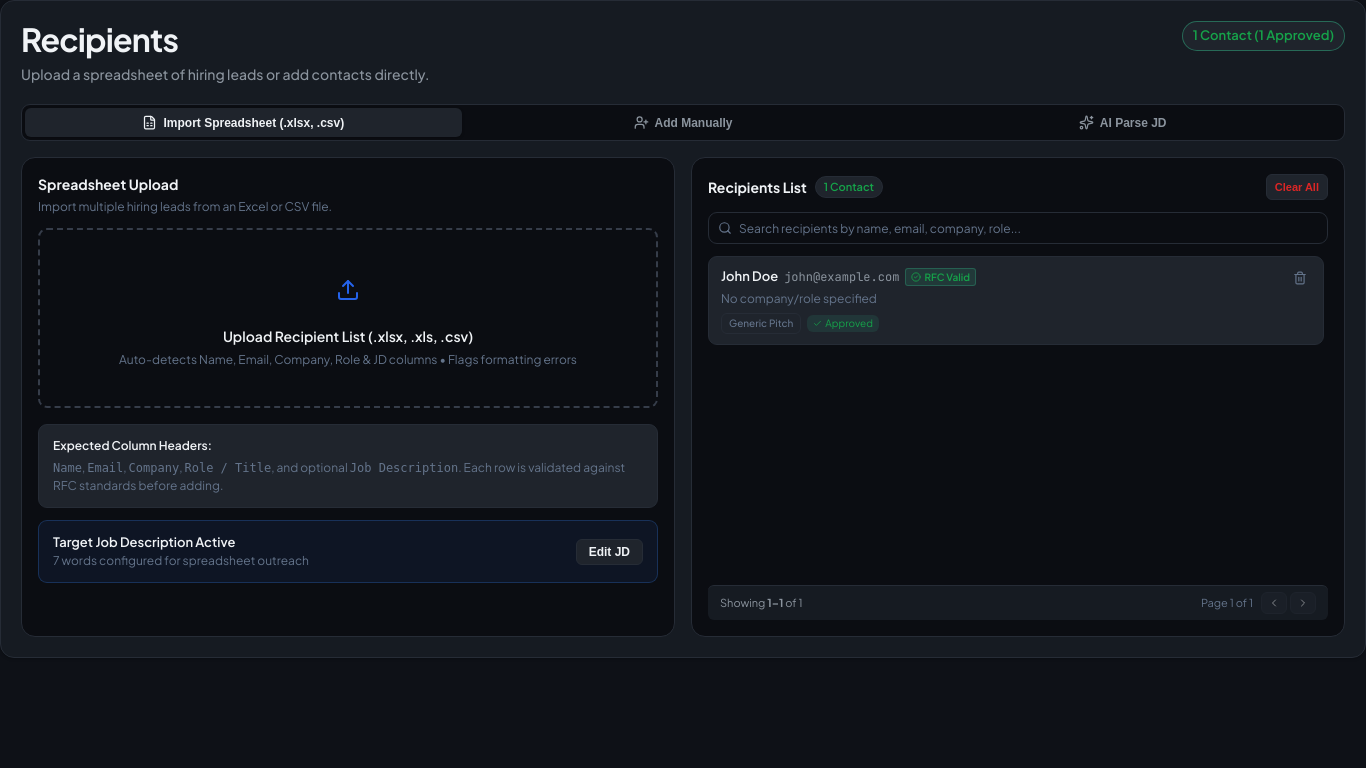
Test case: Excel Upload and Target Role Workflow › RecipientManager spreadsheet JD integration › renders JD configuration banner in spreadsheet tab when spreadsheet recipients exist
Expected: the text "Target Job Description Active" is shown, [53,534,235,550]
Note: Click Edit JD to open modal
Step 1. Click the button "Edit JD" → (609, 552), box [576,539,643,565]
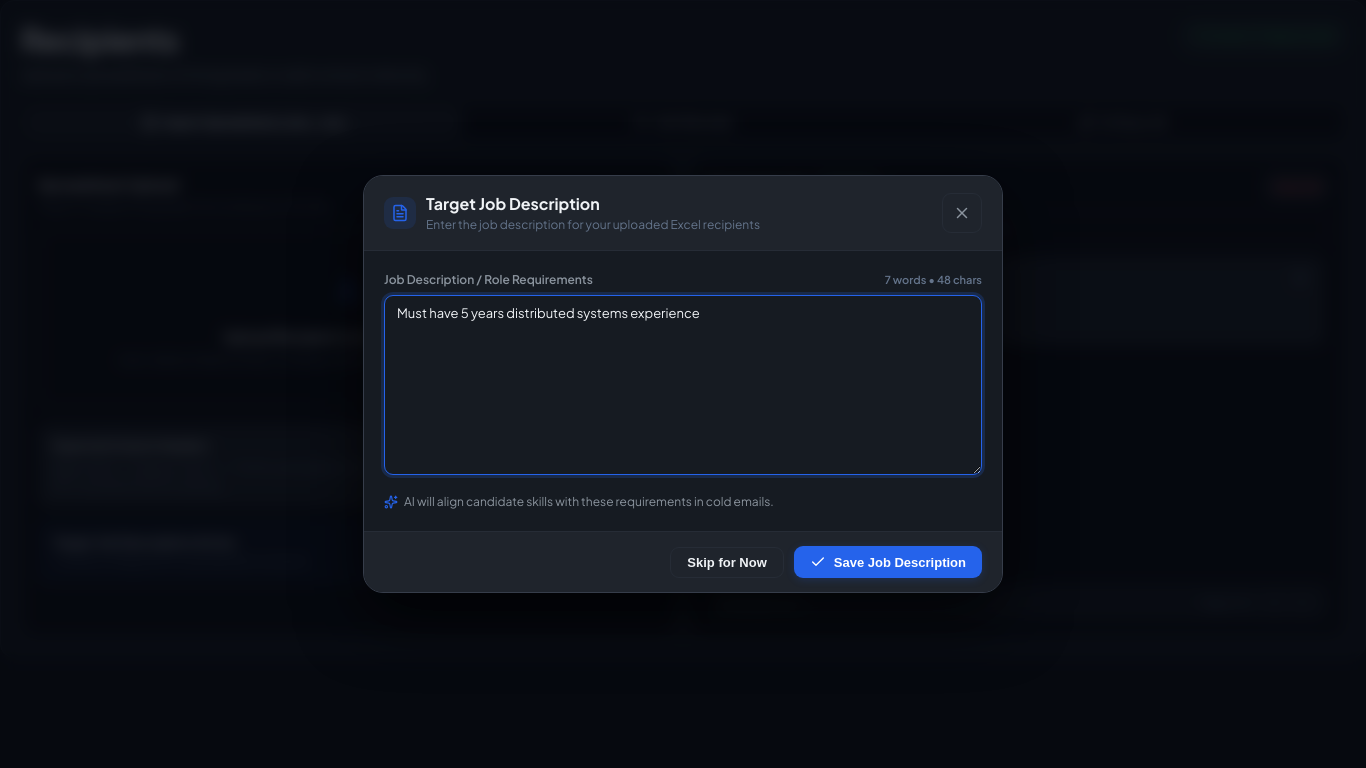
Result: the dialog is shown at [363,175,1003,593]
Result: the text "Target Job Description" is shown at [426,193,600,214]
